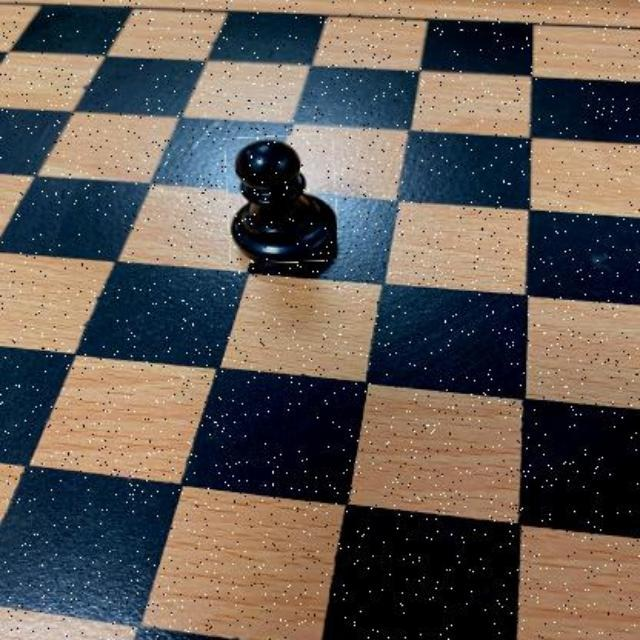black-pawn: (227, 134, 337, 263)
